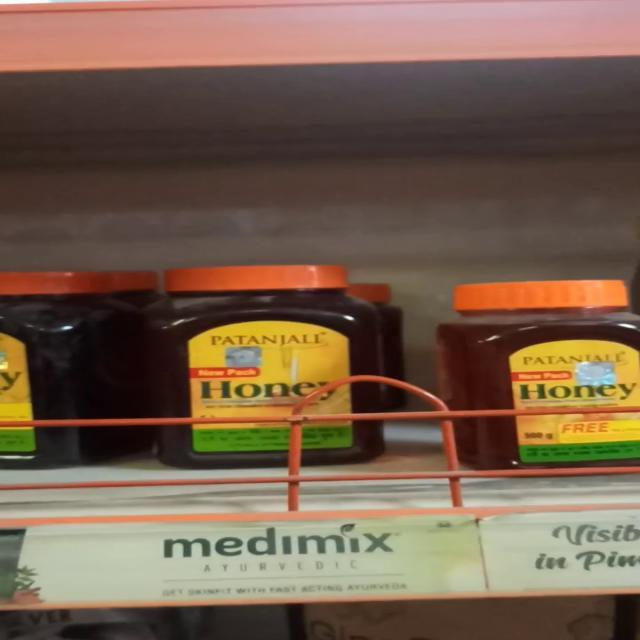Patanjali Honey: (178, 263, 398, 467)
